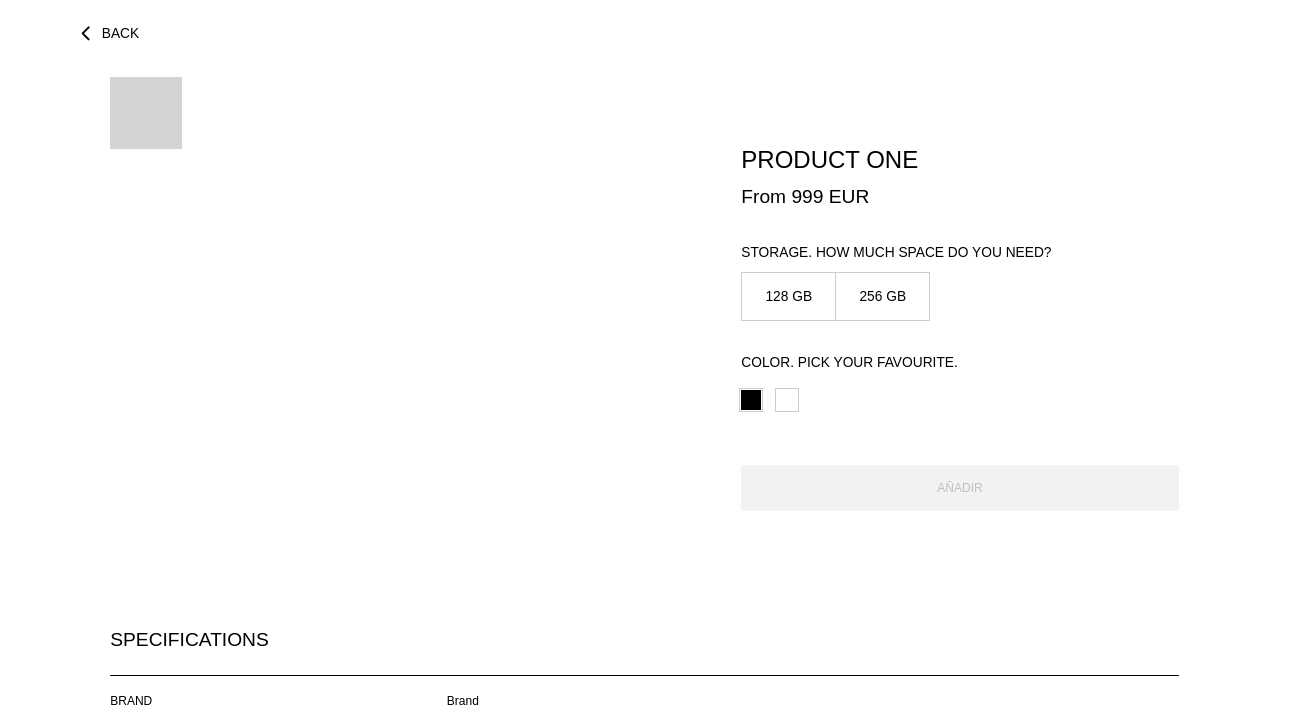
Product page integration › selecting color and storage enables add button; add to cart updates count
Check: the button "Añadir" is disabled, box [741,465,1179,511]
Click the button "128 GB" at (789, 296), box [741,272,836,321]
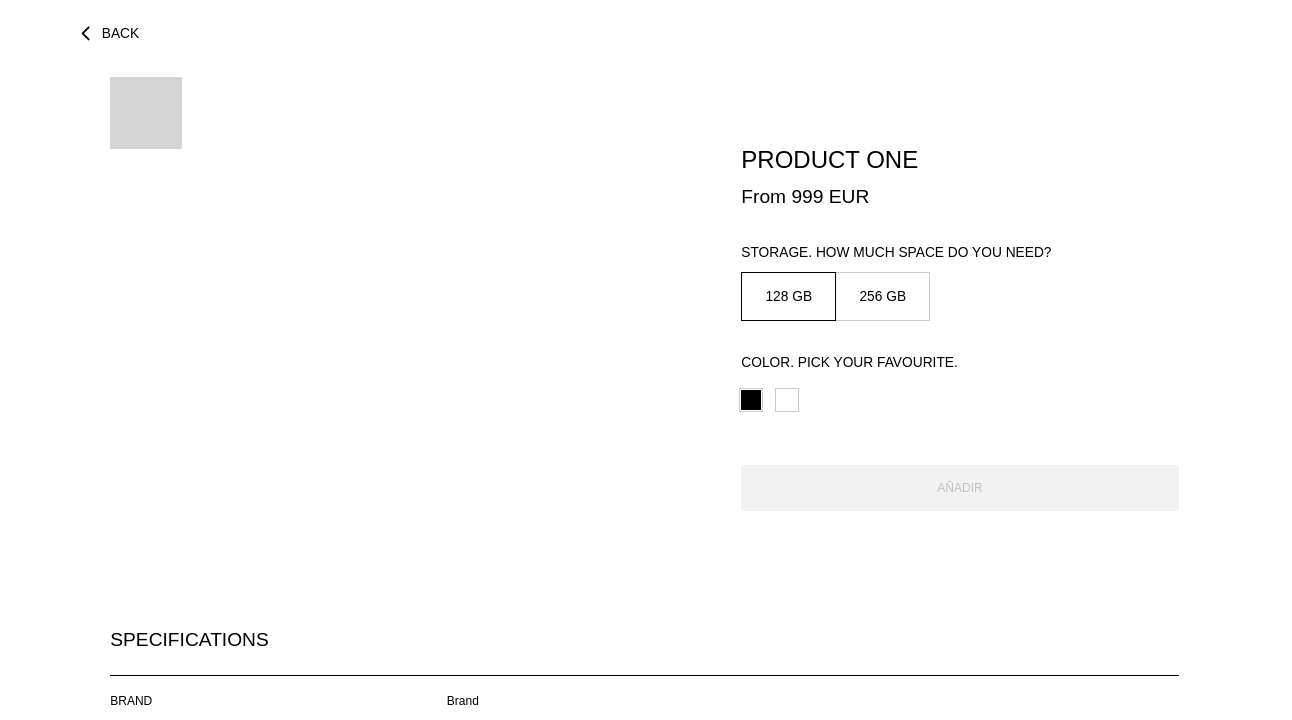
Click the checkbox named "Black" at (751, 400), box [741,390,761,410]
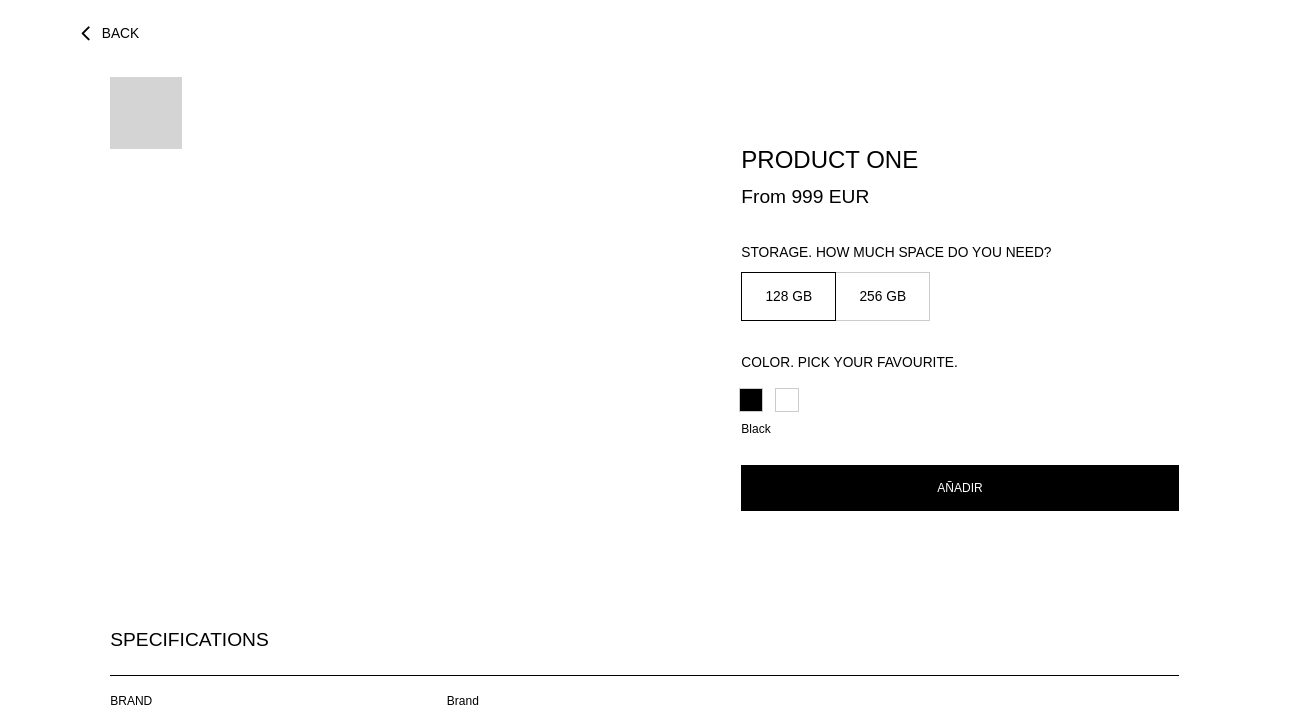
Check: the button "Añadir" is enabled
Click the button "Añadir" at (960, 488), box [741,465,1179,511]
(page scrolled)
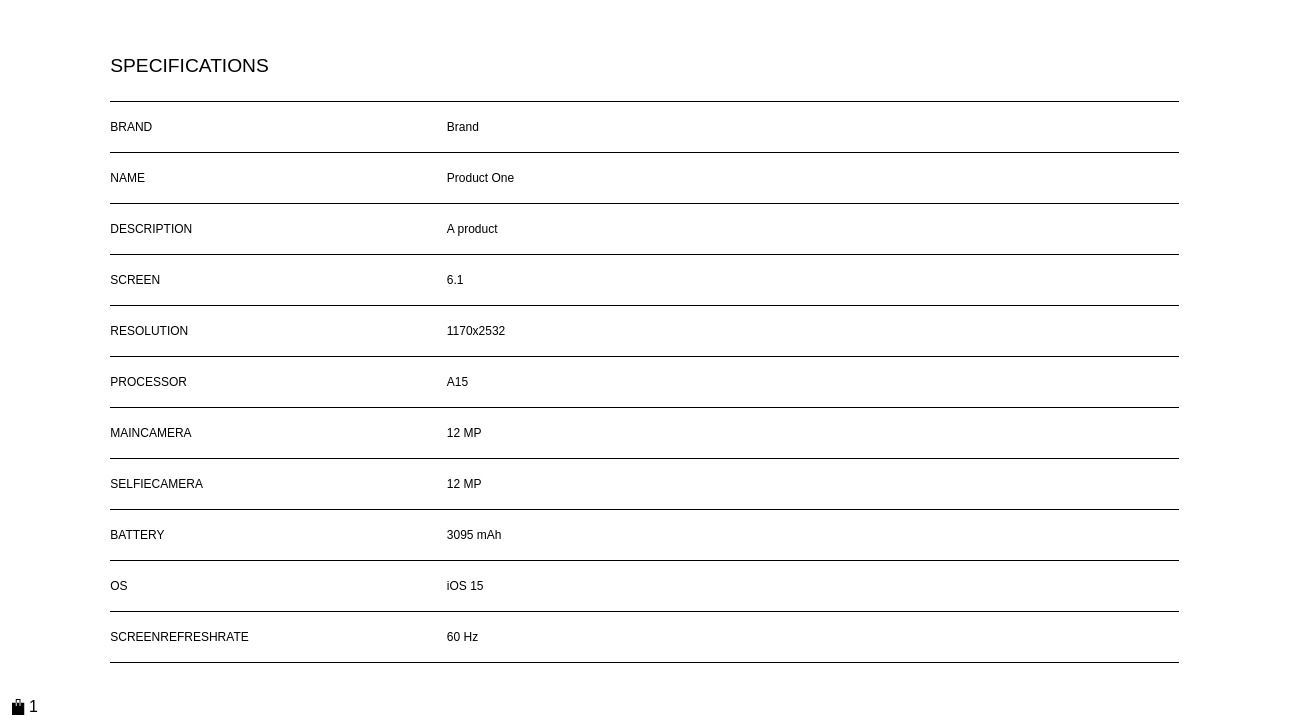
Check: the link named "1 items in cart" is shown, box [12,704,38,718]
